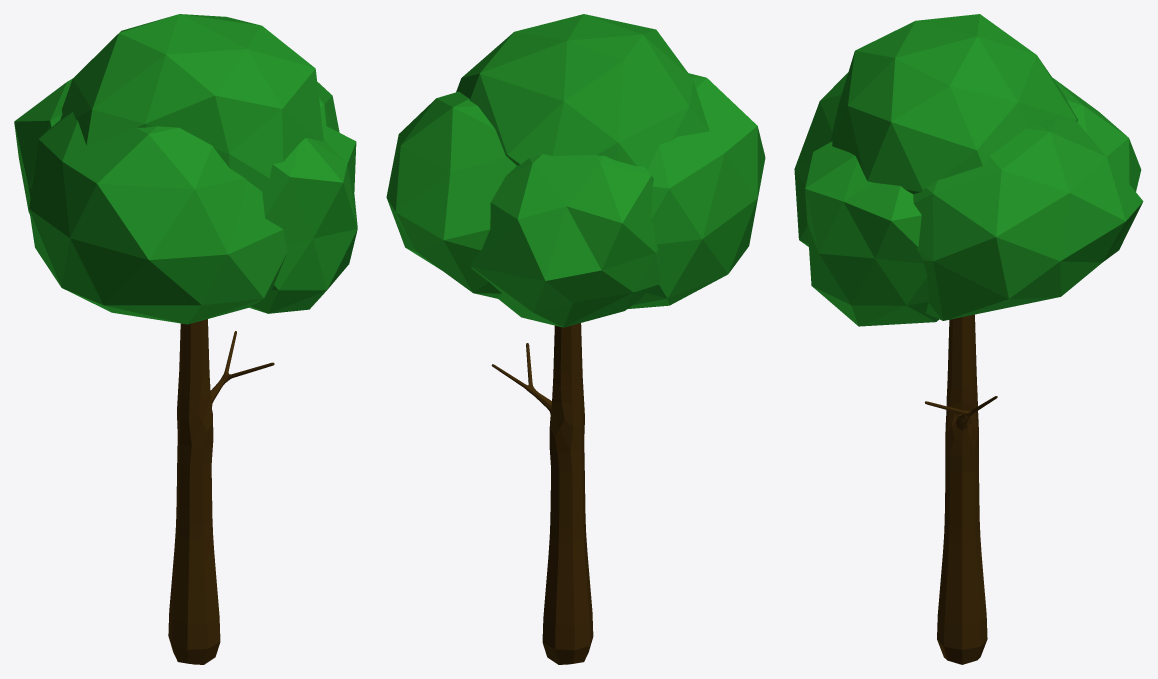
Rendered from Baum 2.fbx.
3 renders of one model, left to right at view 1: azimuth 30°, elevation 25°; view 2: azimuth 150°, elevation 25°; view 3: azimuth 270°, elevation 25°, orthographic. The views are drawn at different scales.
Visible parts, largest first — view 1: Plane; view 2: Plane; view 3: Plane.
Part boxes in pixels (box(x1,y1,x2,y2)): Plane: box(14, 14, 357, 664); Plane: box(386, 14, 765, 664); Plane: box(794, 14, 1143, 664).
Bounding box in the file's own units: 501 × 982 × 498.
Materials: 1 (1 with a texture image).
